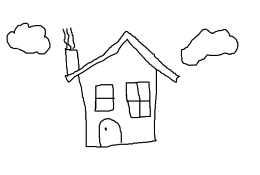closed_window: (123, 79, 154, 121), (93, 82, 118, 115)
clouds: (180, 27, 238, 66), (6, 22, 52, 56)
door: (95, 115, 124, 152)
roof: (65, 30, 179, 82)
smoking_chimney: (58, 23, 86, 79)
wall: (75, 58, 163, 151)
